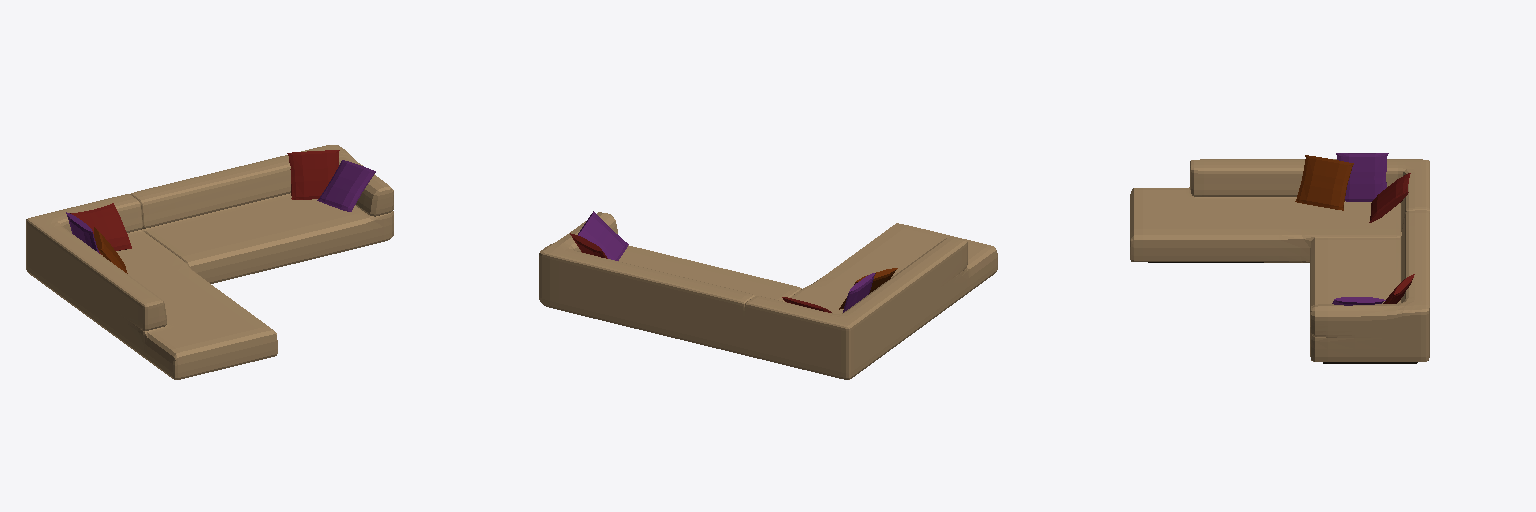
The model's file is sofa.obj.
3 views of the same model, side by side, from view 1: azimuth 30°, elevation 25°; view 2: azimuth 150°, elevation 25°; view 3: azimuth 270°, elevation 25° (orthographic).
Visible parts, largest first — view 1: sofa_Cube.001; view 2: sofa_Cube.001; view 3: sofa_Cube.001.
Boxes of the visible parts, <box> form: sofa_Cube.001: <box>26,145,393,379</box>; sofa_Cube.001: <box>539,211,997,379</box>; sofa_Cube.001: <box>1130,153,1429,363</box>.
Bounding box in the file's own units: 6 × 1.38 × 5.